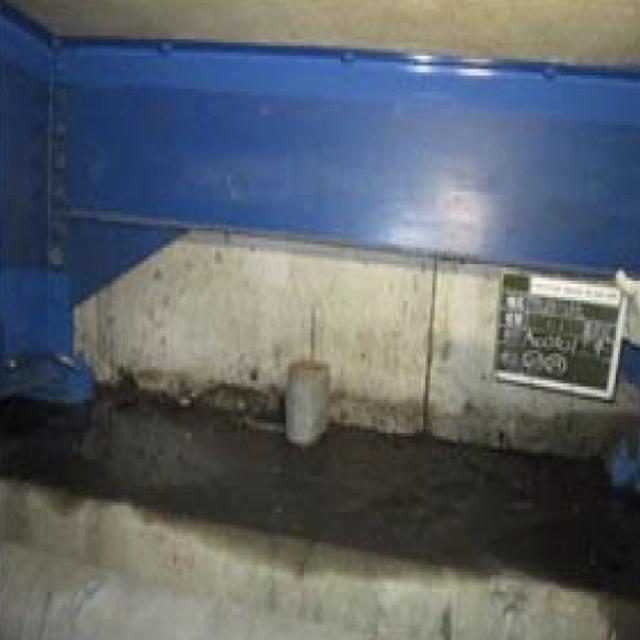leakage: (97, 343, 640, 630)
